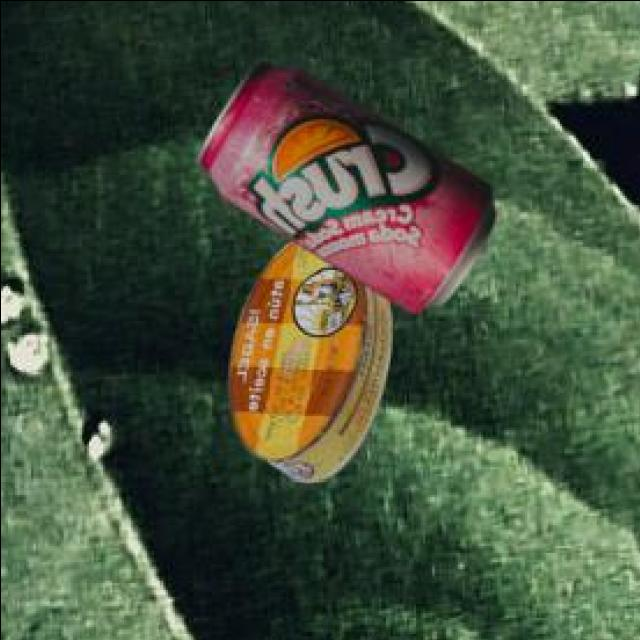logam: (198, 57, 497, 310), (231, 235, 395, 479)
